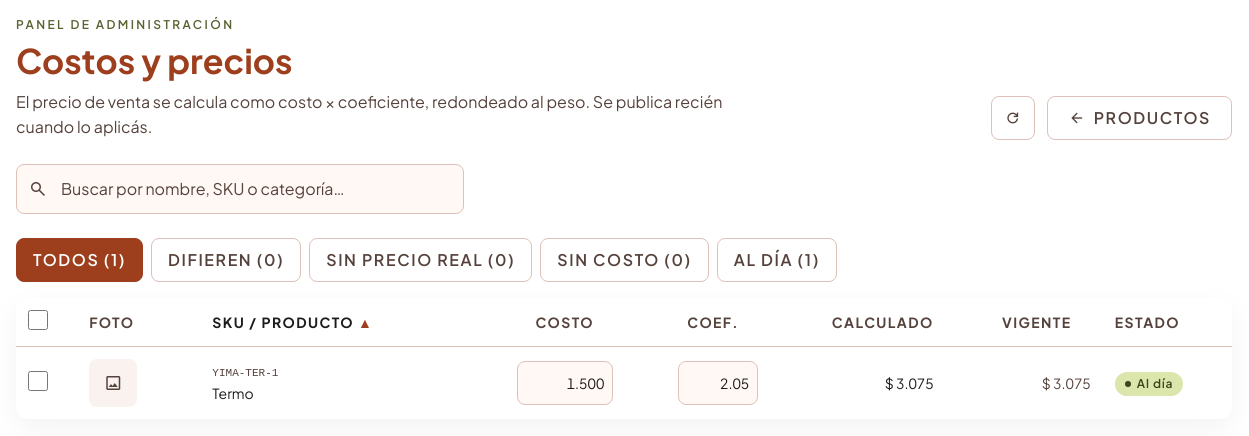
Test: AdminPrecios — el costo se ve con punto de miles y viaja pelado › el precio calculado sale del crudo, no del texto con puntos
This screenshot has width=1249, height=436.
Expected: the text "Termo" is shown, [212,384,254,402]
Clear the 1st field named "Costo de Termo": (565, 383) [517,361,613,405]
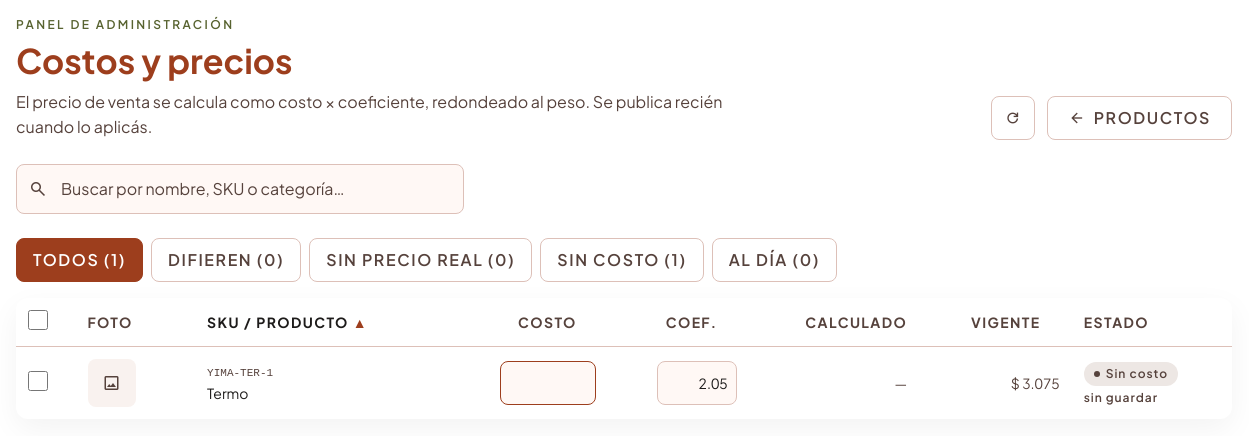
In the 1st field named "Costo de Termo": (548, 383) [500,361,596,405], type "10000"
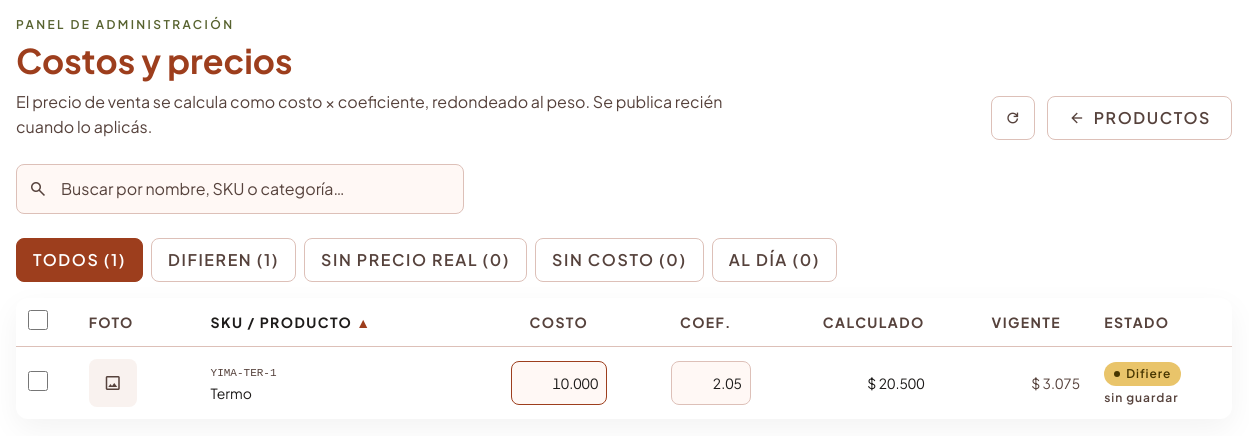
Expected: the text "$ 20.500" is shown, [763,347,937,419]
